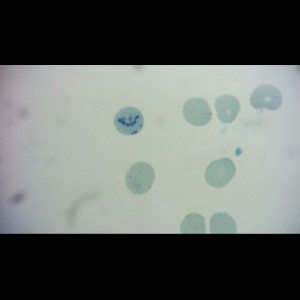aggregate reticulocyte: (112, 105, 146, 136)
erythrocyte: (203, 156, 237, 189), (213, 94, 242, 125)
punctate reticulocyte: (123, 160, 156, 196), (248, 83, 286, 112), (181, 96, 214, 127)
